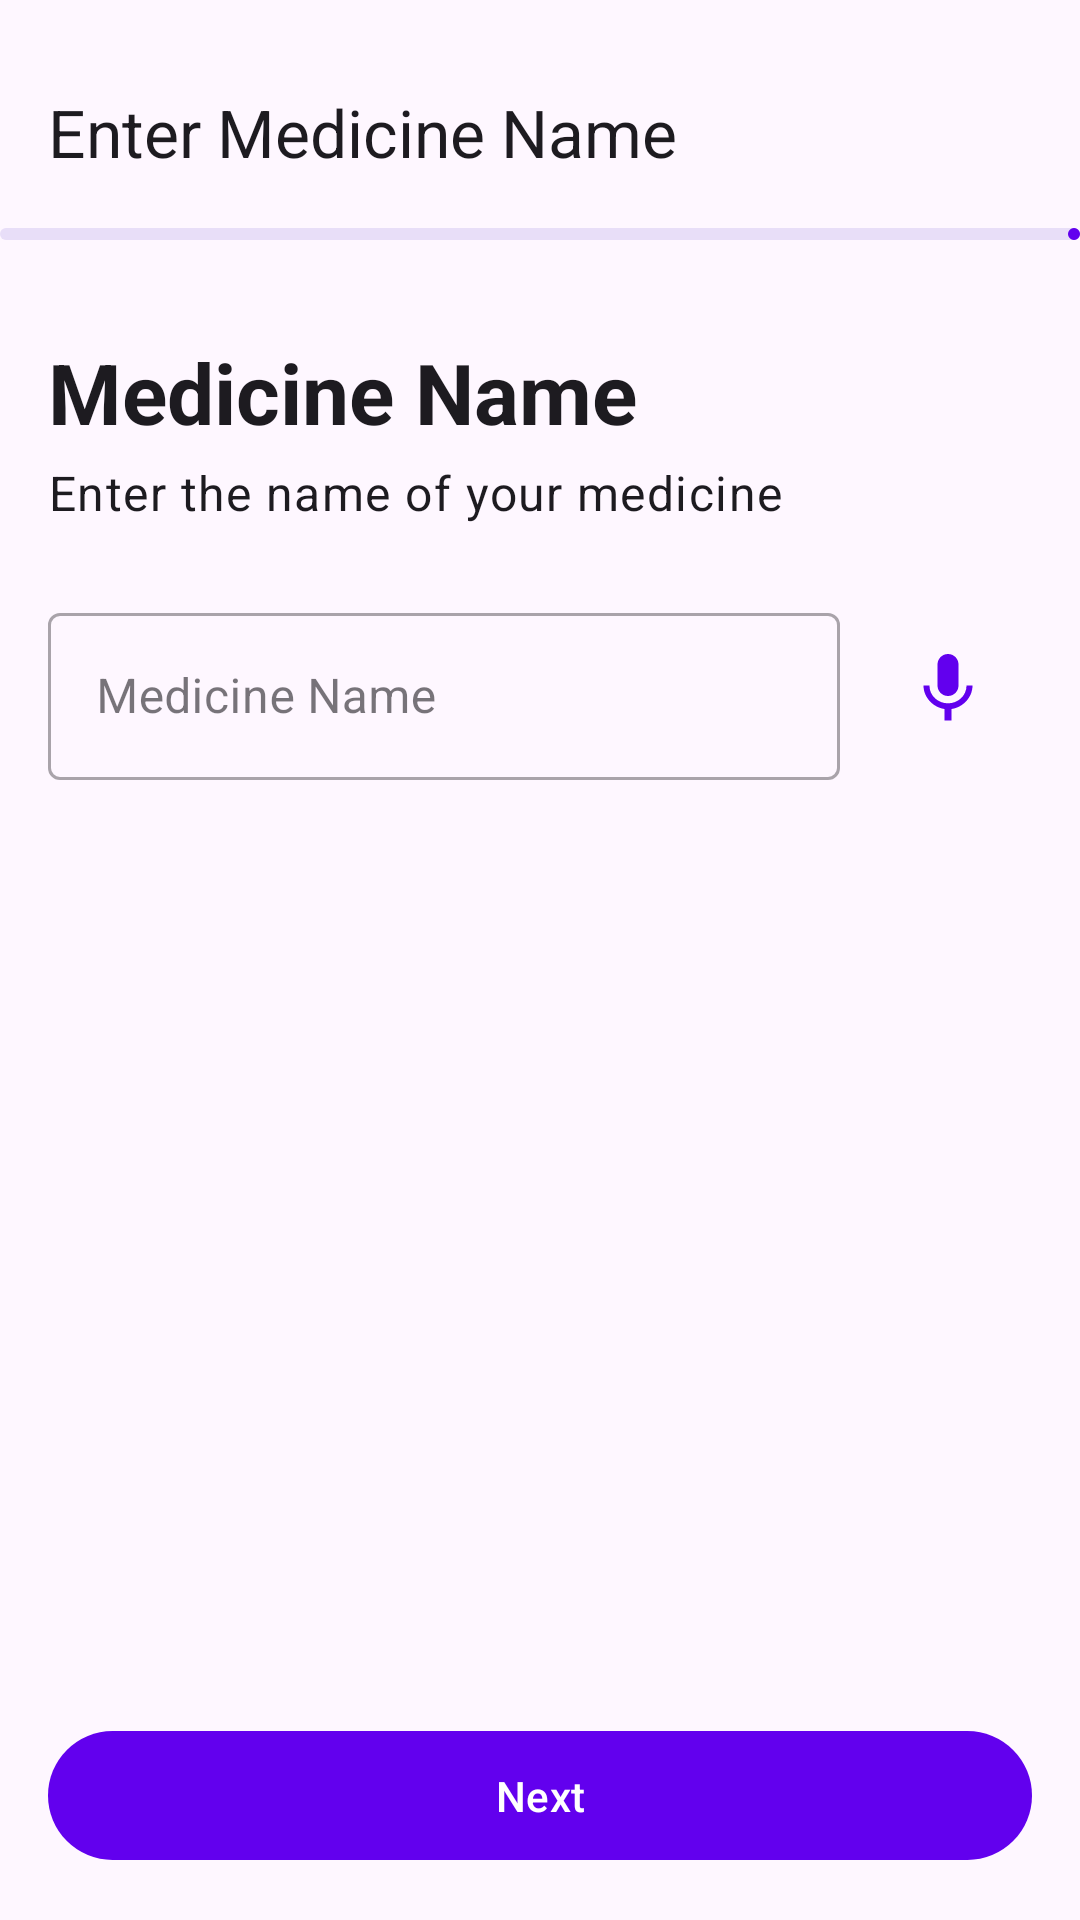

Named icons in this screenshot (1080 x 1920) and their centers, (x=x, y=y):
Use voice input: (x=948, y=687)
